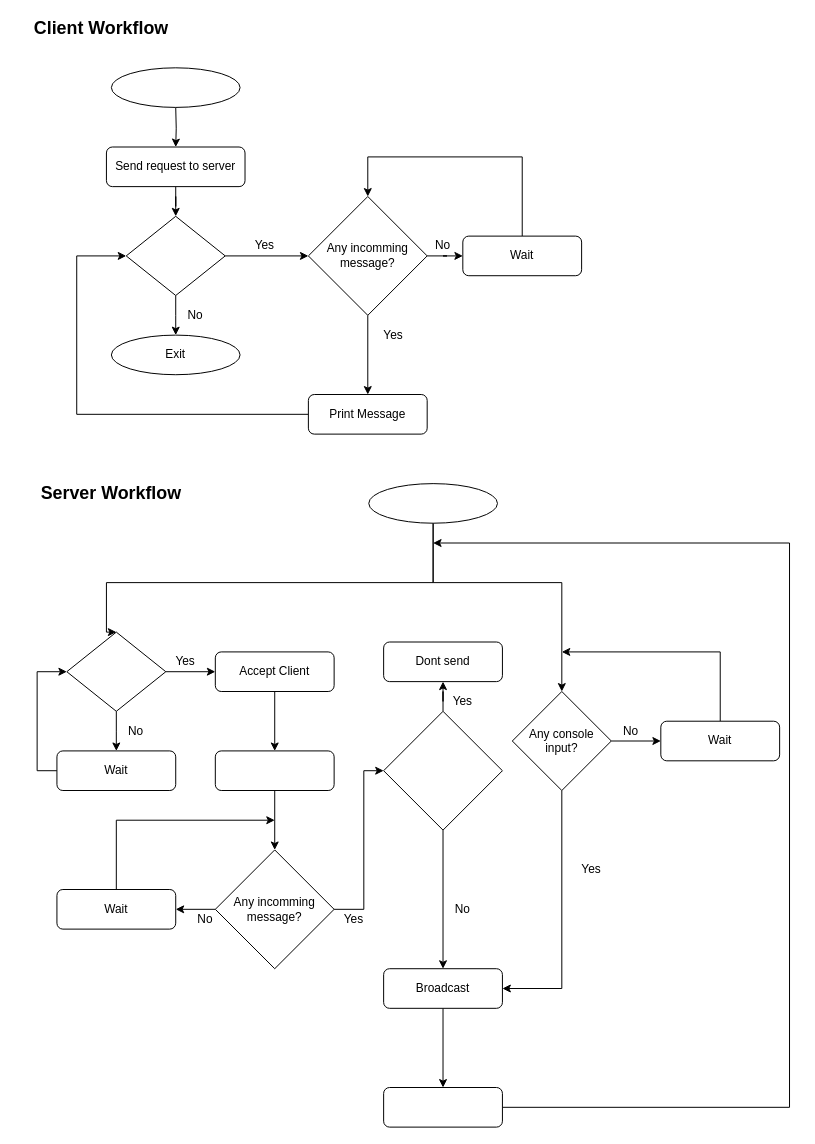
The diagram is 815 pixels wide and 1144 high, and some of its shapes have lost their labels. The shapes that lost their labels are listed below. From the top down, each one's centre as x and y in pixels, then its label:
At (175,87): "Client Initialize".
At (175,255): "Connected?".
At (432,503): "Server Initialize".
At (116,671): "Any client requesting?".
At (274,770): "Add to List".
At (442,770): "Is receiver the sender?".
At (442,1107): "Save Message".
